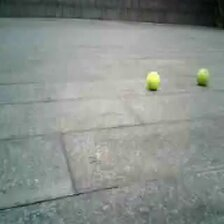tennis: (147, 72, 160, 89), (196, 67, 209, 84)
